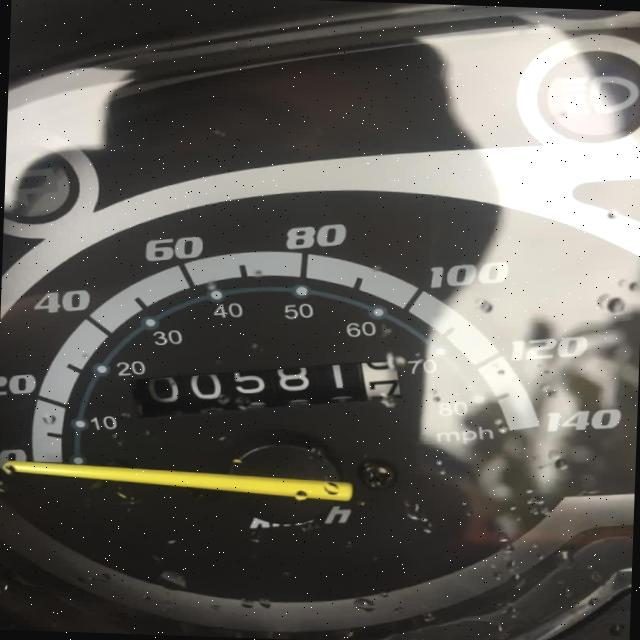odometer: (125, 348, 406, 428)
